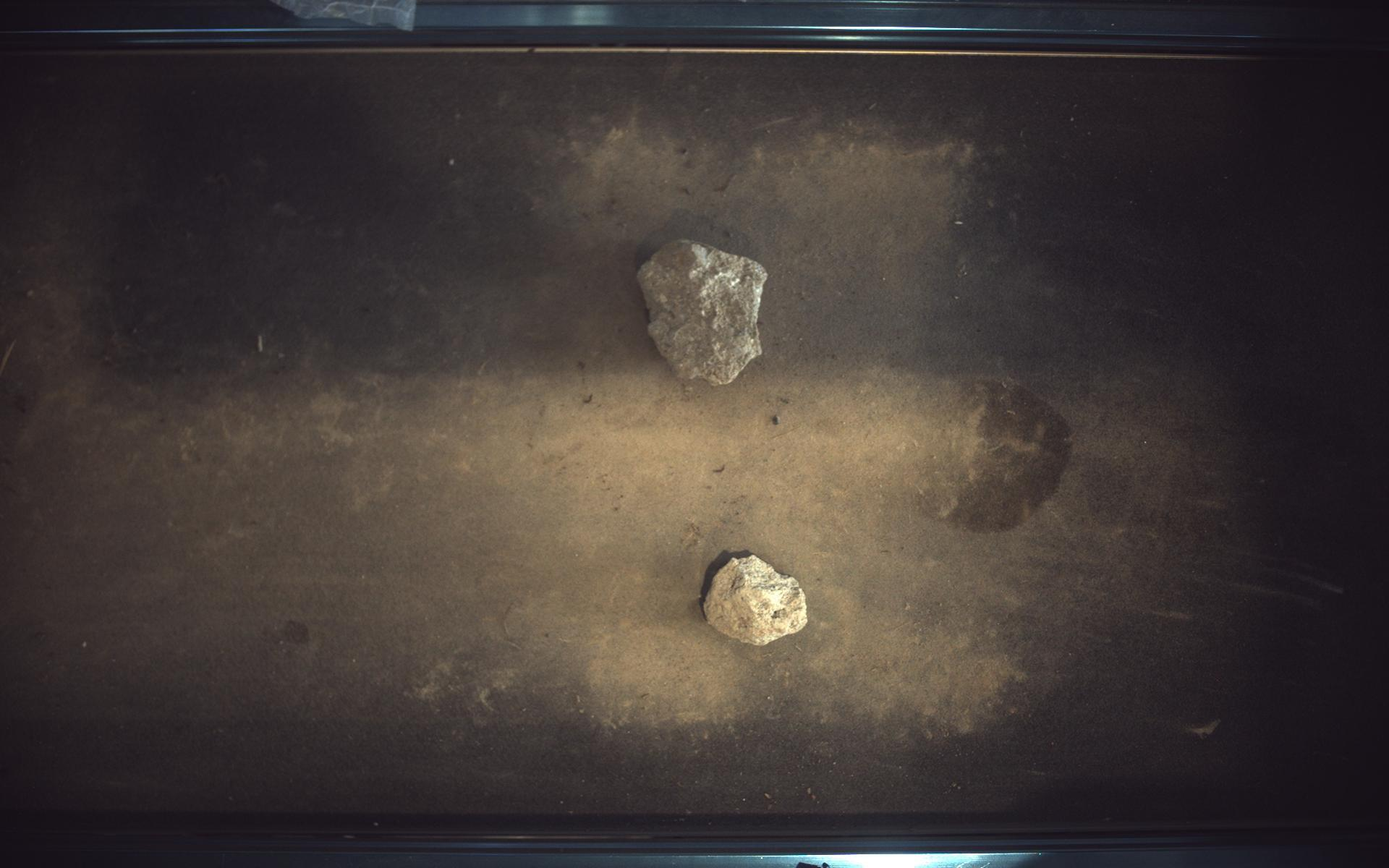stone: (638, 239, 769, 385), (705, 557, 809, 646)
